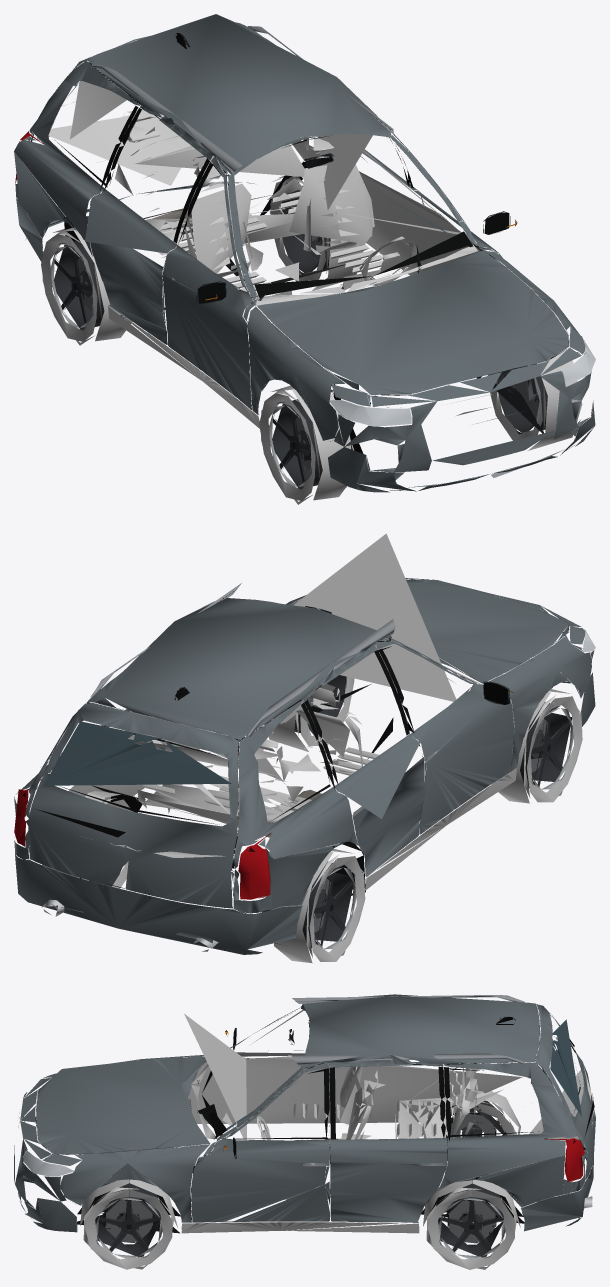
The model's file is sedan.glb.
The picture shows the model from 3 angles, top to bottom: view 1: azimuth 30°, elevation 25°; view 2: azimuth 150°, elevation 25°; view 3: azimuth 270°, elevation 25°; orthographic projection. The views are drawn at different scales.
Visible parts, largest first — view 1: Body, Wheel_FR, Wheel_RR, Wheel_FL, Wheel_RL, Steering_Wheel; view 2: Body, Wheel_RR, Wheel_FR, Wheel_FL, Wheel_RL; view 3: Body, Wheel_FL, Wheel_RL, Wheel_RR.
Part boxes in pixels (<box>): Body: <box>14,14,595,492</box>; Wheel_FR: <box>259,385,354,504</box>; Wheel_RR: <box>41,224,132,345</box>; Wheel_FL: <box>487,348,582,450</box>; Wheel_RL: <box>270,176,365,290</box>; Steering_Wheel: <box>359,236,416,285</box>; Body: <box>14,533,595,954</box>; Wheel_RR: <box>271,847,365,963</box>; Wheel_FR: <box>491,689,582,803</box>; Wheel_FL: <box>265,675,354,751</box>; Wheel_RL: <box>42,791,132,888</box>; Body: <box>14,994,595,1239</box>; Wheel_FL: <box>80,1176,177,1269</box>; Wheel_RL: <box>423,1176,520,1269</box>; Wheel_RR: <box>423,1091,520,1173</box>.
Bounding box in the file's own units: 2.35 × 1.89 × 4.77.
